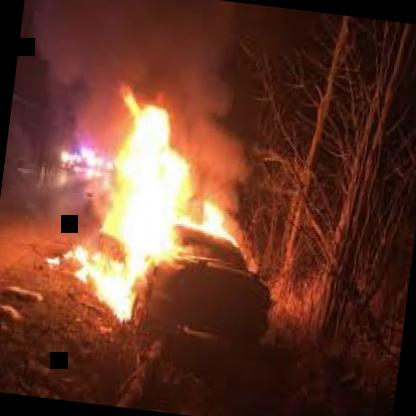fire: (87, 99, 216, 306)
